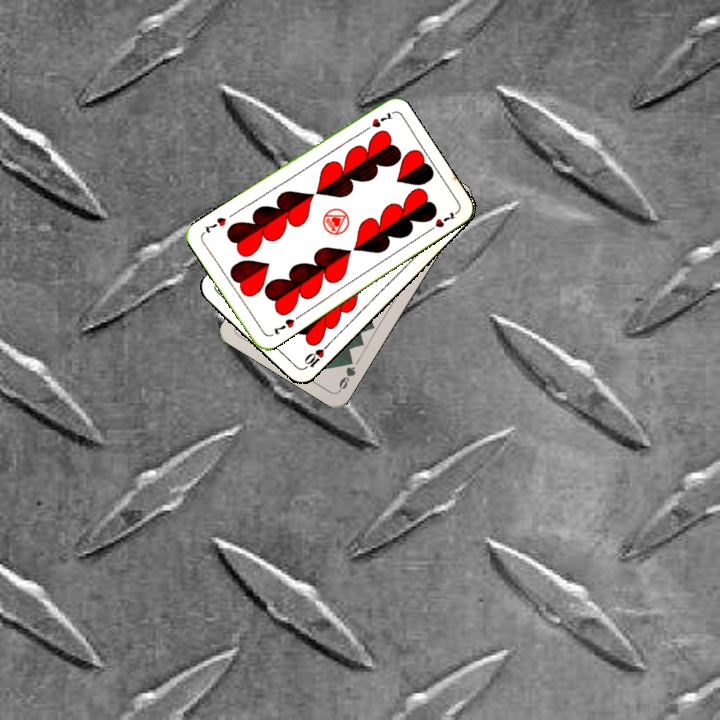G9: (335, 354, 358, 394)
H10: (298, 340, 331, 372)
H7: (358, 108, 395, 135), (270, 314, 297, 337)
